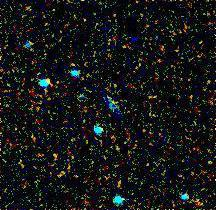star: (185, 26, 215, 56)
